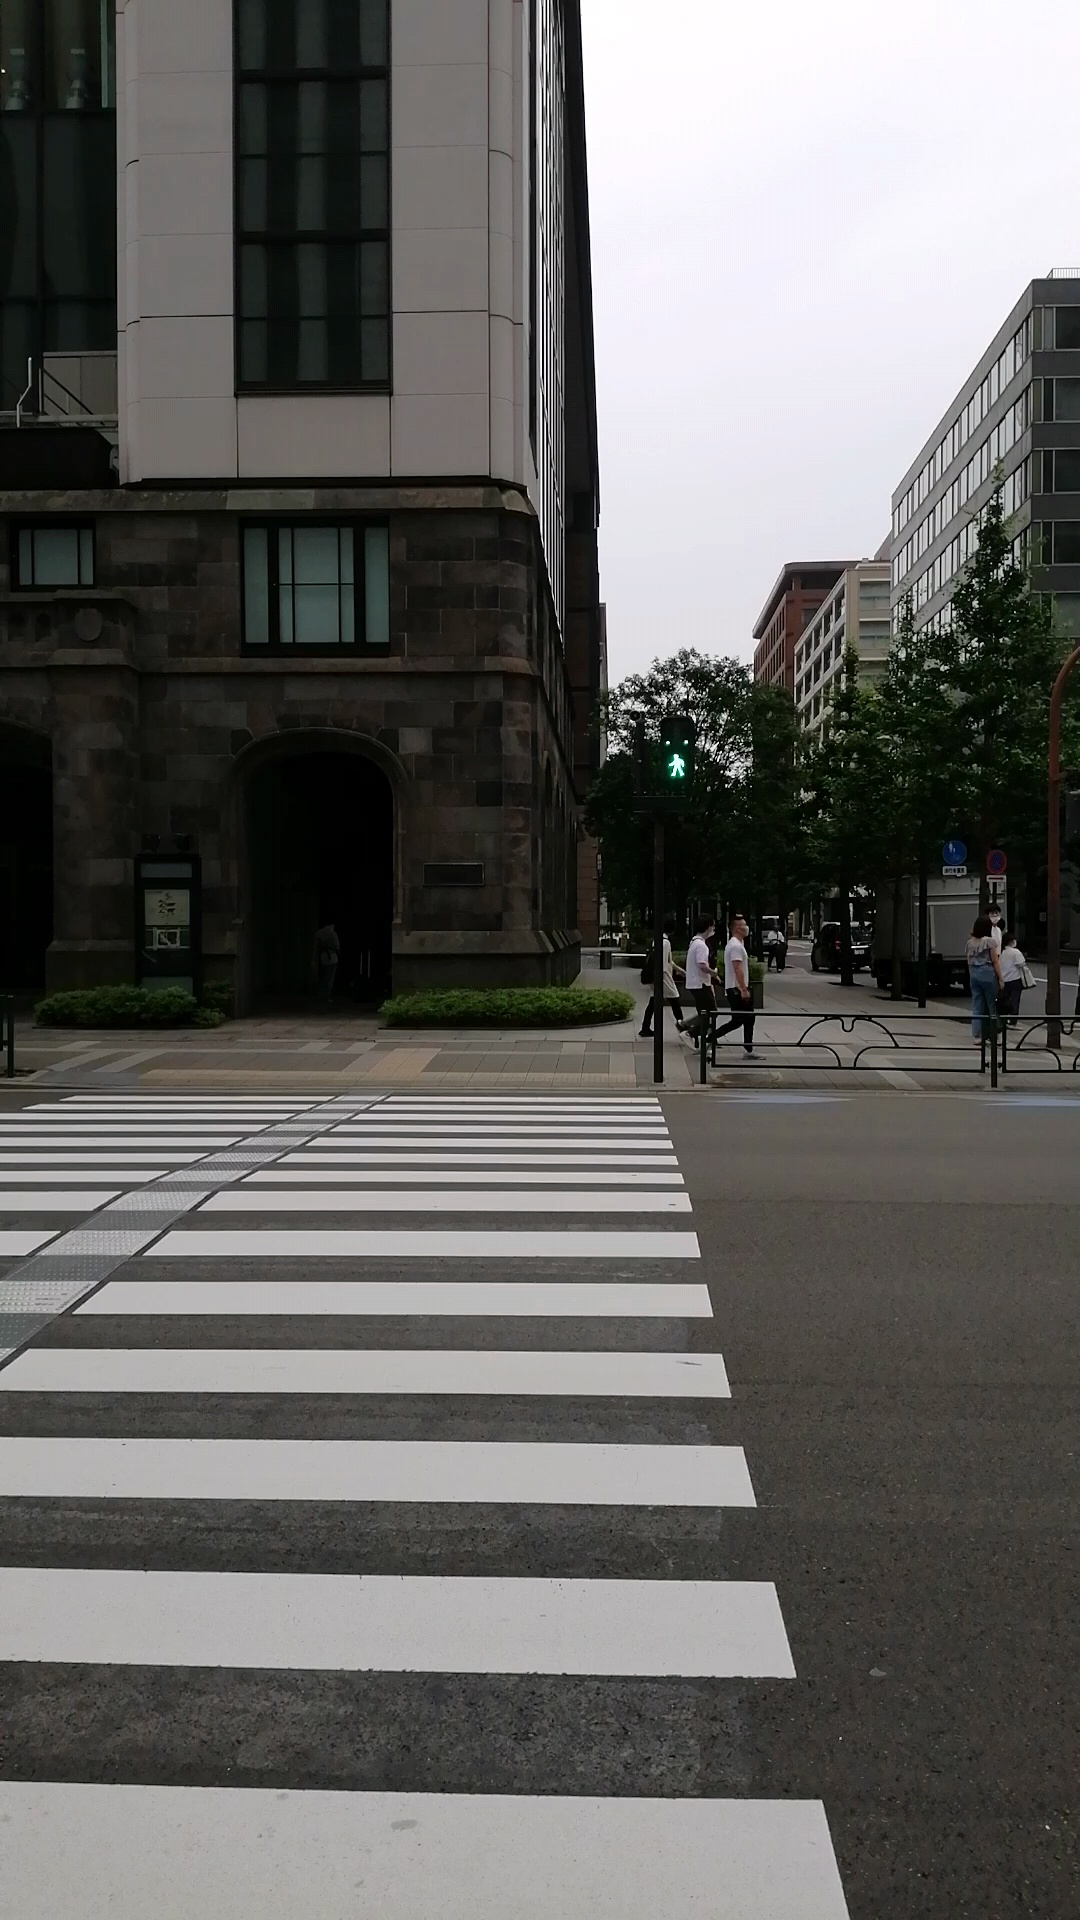green: (657, 715, 696, 786)
